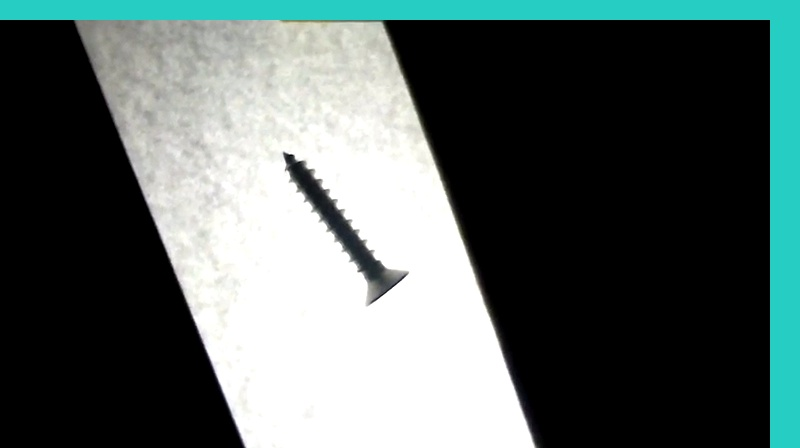S001: (277, 144, 413, 308)
